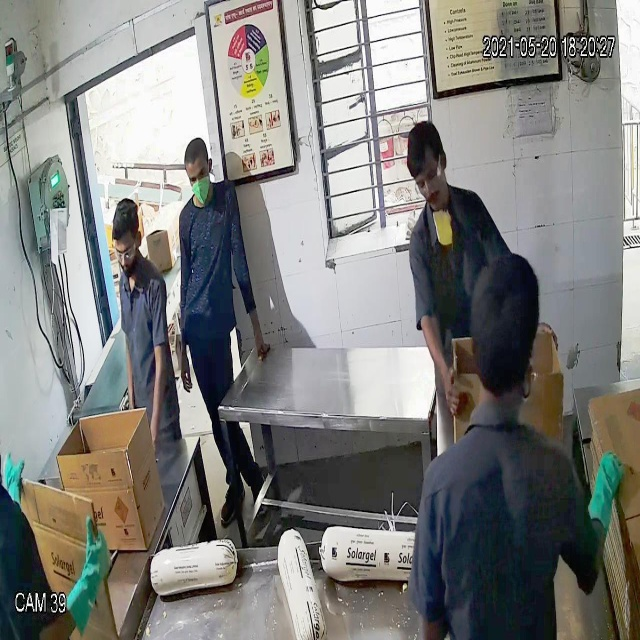Gafas: (410, 167, 446, 198)
Sin_gafas: (187, 166, 211, 186)
